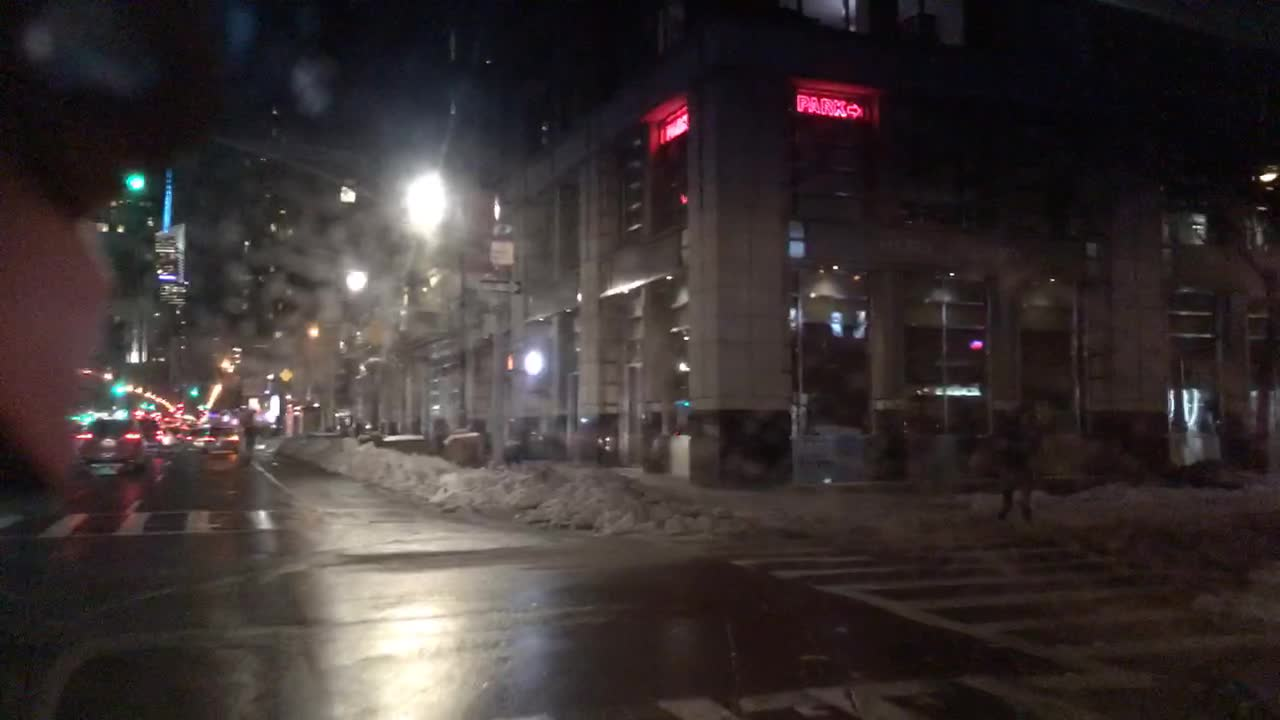car: (76, 418, 148, 473), (202, 422, 240, 456), (137, 414, 168, 444), (186, 424, 211, 452), (166, 424, 186, 443)
person: (994, 403, 1038, 521), (241, 421, 258, 467)
traffic light: (523, 348, 544, 375), (125, 172, 143, 191), (110, 379, 124, 396), (503, 352, 517, 369), (187, 383, 201, 399), (145, 399, 156, 410)
traffic sign: (477, 276, 522, 295), (488, 238, 514, 264), (279, 365, 294, 382)
